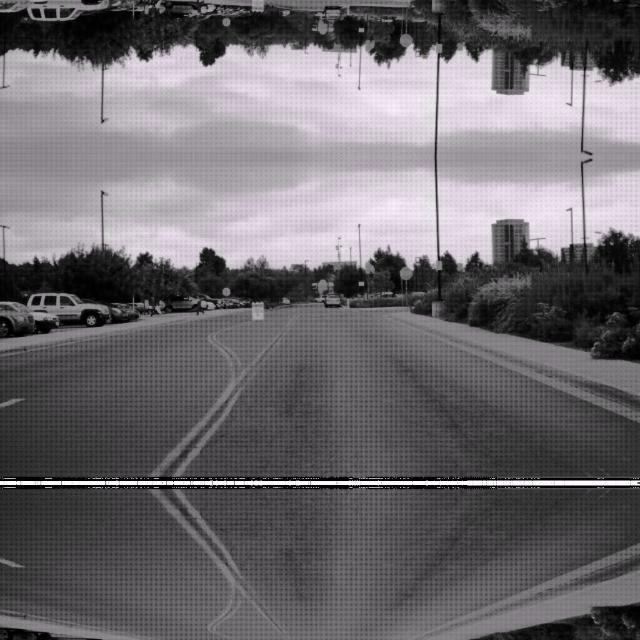stop: (398, 266, 412, 278), (398, 34, 412, 46)
